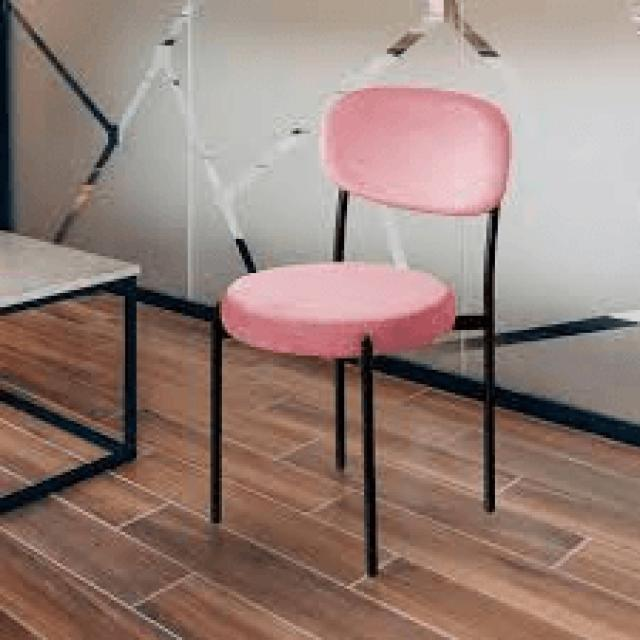chair: (206, 82, 514, 576)
